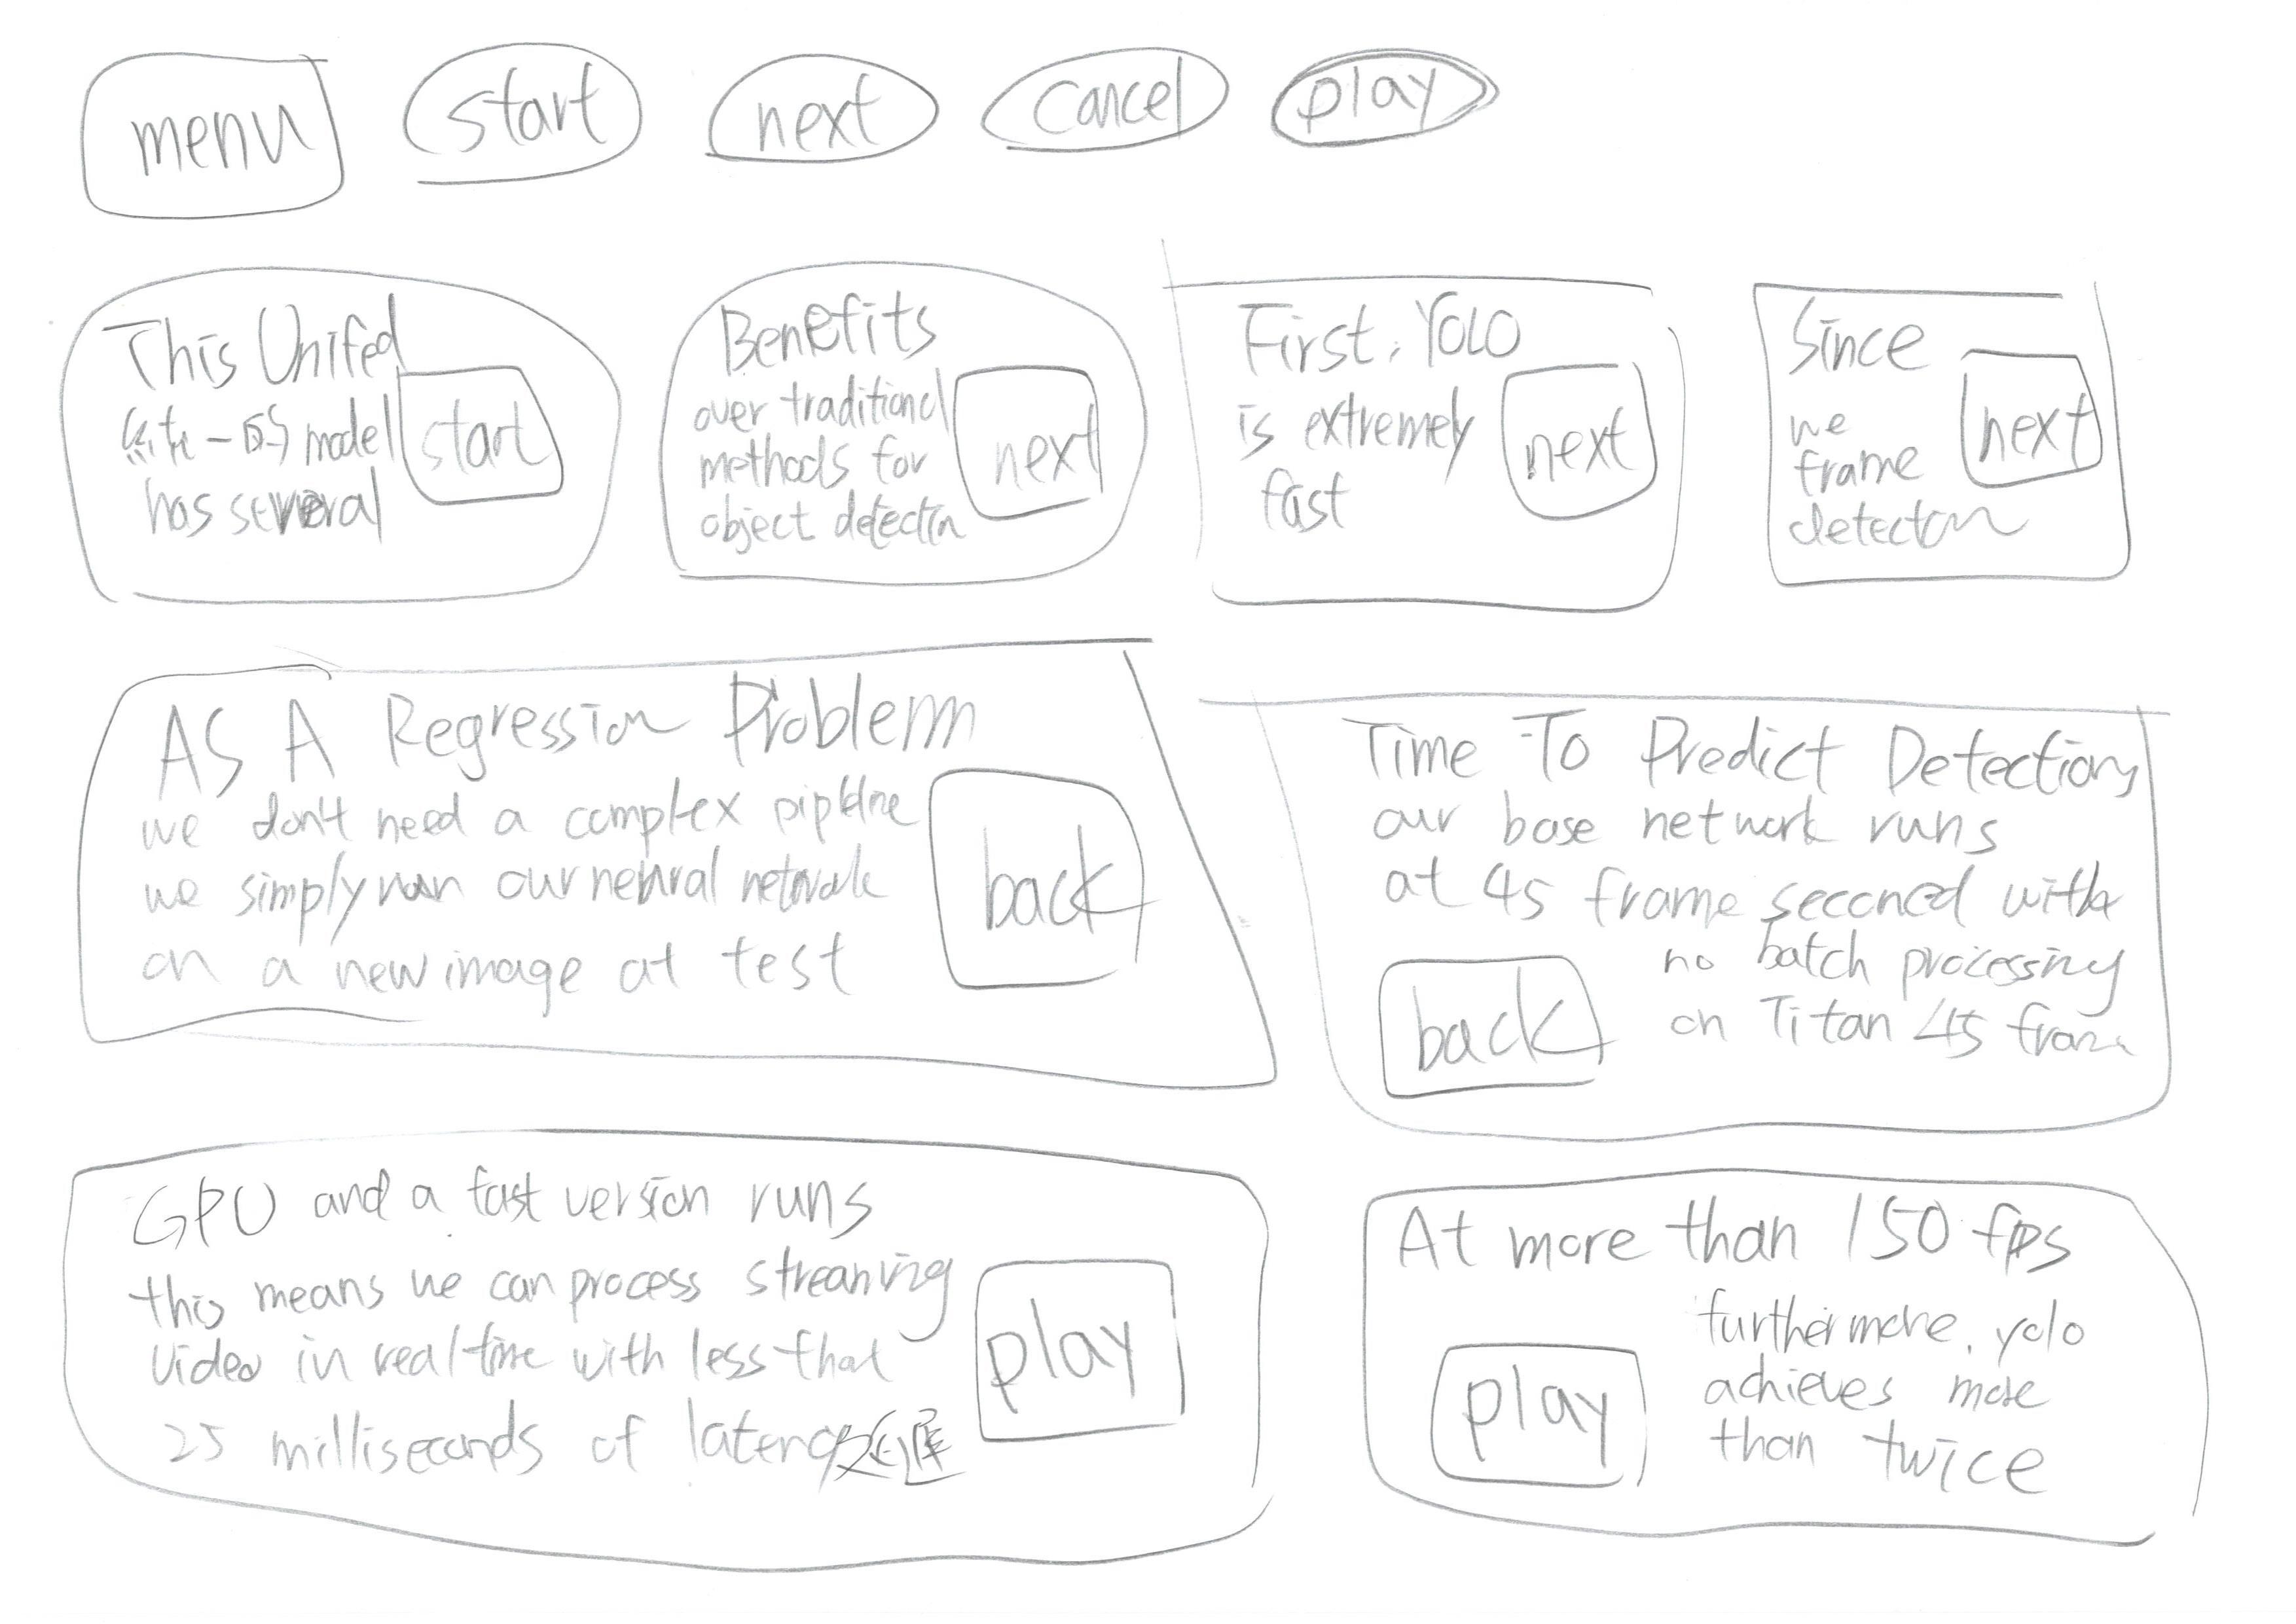back: (905, 743, 1174, 1019), (1357, 917, 1642, 1109)
cancel: (985, 23, 1255, 197)
double: (39, 636, 1327, 1137), (56, 1102, 1331, 1591), (1227, 652, 2259, 1162), (1311, 1146, 2296, 1589)
menu: (60, 32, 366, 241)
next: (928, 334, 1139, 557), (696, 40, 972, 204), (1473, 344, 1677, 543), (1957, 327, 2120, 510)
play: (953, 1244, 1217, 1482), (1413, 1316, 1670, 1529), (1261, 28, 1572, 183)
quadruple: (40, 232, 640, 627), (1141, 237, 1719, 636), (1719, 236, 2296, 634), (631, 246, 1162, 624)
row: (33, 642, 2296, 1156), (33, 1111, 2296, 1624), (33, 221, 2296, 627), (23, 0, 2285, 237)
small-title: (1338, 712, 2171, 821), (98, 1149, 895, 1260), (146, 692, 976, 796), (1406, 1186, 2090, 1294), (1250, 286, 1515, 380), (102, 302, 397, 381), (719, 295, 935, 369), (1786, 295, 1932, 383)
start: (374, 19, 661, 218), (376, 350, 584, 526)
text: (134, 1251, 955, 1501), (127, 794, 897, 1011), (1663, 819, 2129, 1070), (1385, 810, 2082, 942), (1707, 1287, 2113, 1503), (680, 374, 944, 559), (134, 401, 413, 564), (1206, 383, 1473, 547), (1793, 385, 1969, 548)
